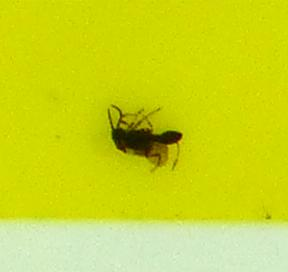Hymenoptera: (100, 100, 188, 172)
